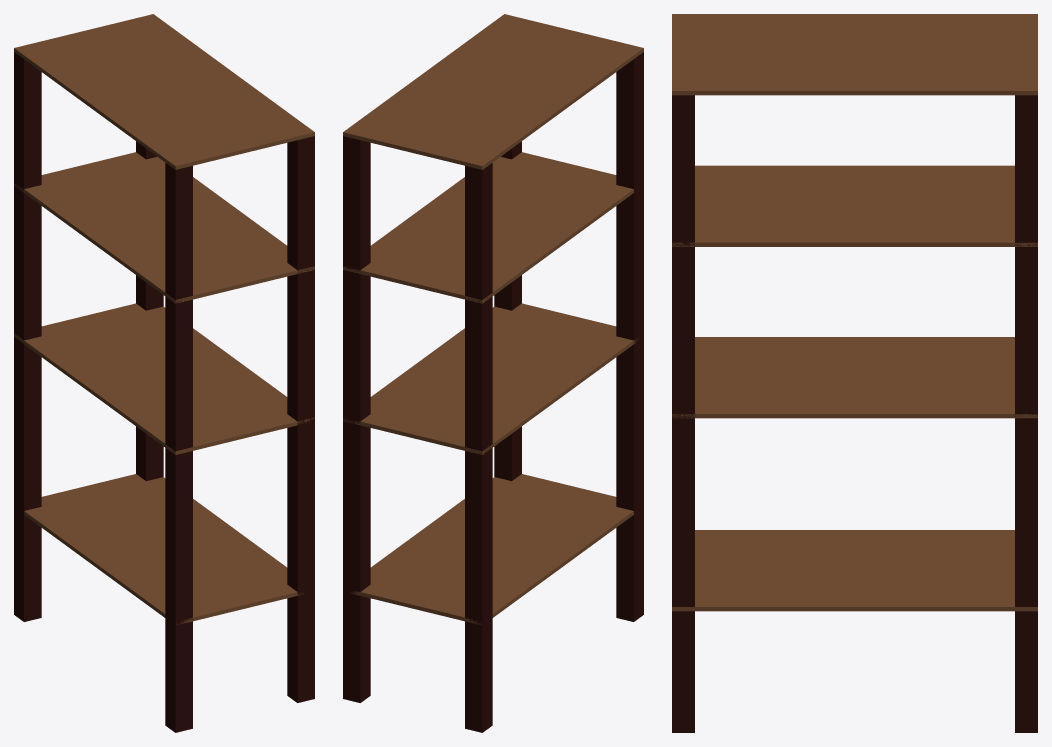
File: Tall_Thin_Shelf - Final.fbx
The picture shows the model from 3 angles, left to right: view 1: azimuth 30°, elevation 25°; view 2: azimuth 150°, elevation 25°; view 3: azimuth 270°, elevation 25°; orthographic projection. The views are drawn at different scales.
Parts seen in each view (by area): view 1: Shelf_Thin; view 2: Shelf_Thin; view 3: Shelf_Thin.
Boxes of the visible parts, left/top/right/bottom form: Shelf_Thin: left=14, top=14, right=314, bottom=732; Shelf_Thin: left=343, top=14, right=643, bottom=732; Shelf_Thin: left=672, top=14, right=1037, bottom=732.
Size of the model in its own units: 112 by 436 by 225.
